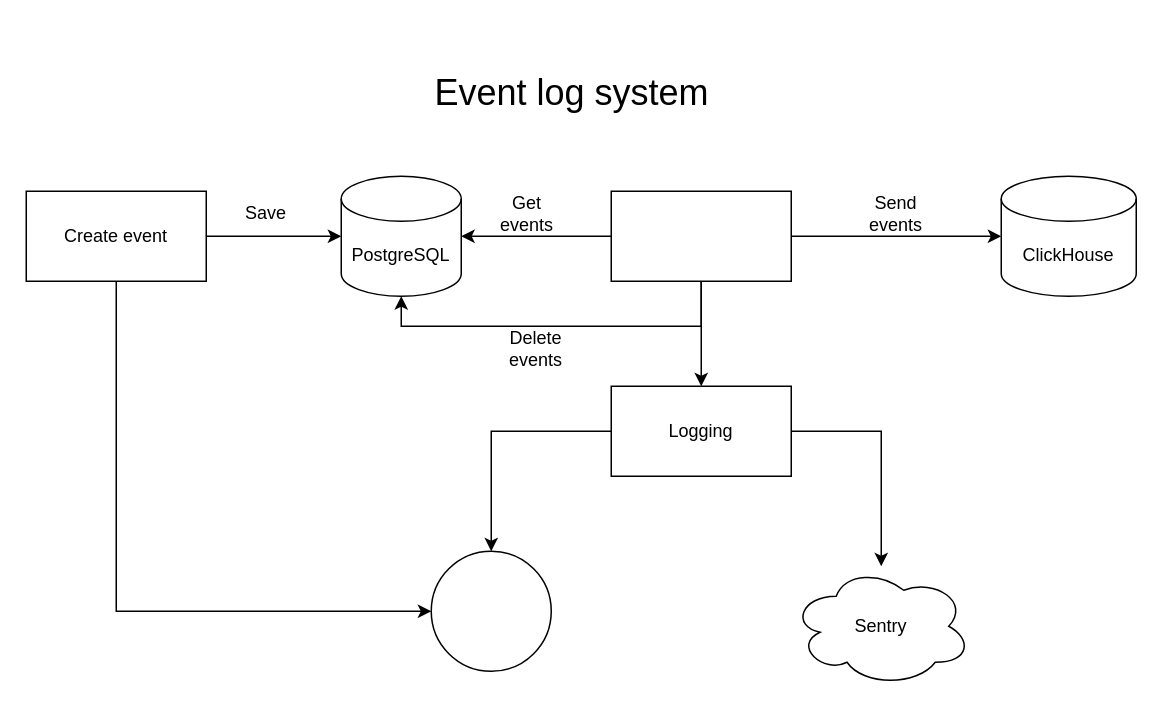
Image size: 1163x713. Some labels were removed from this diagram. The centre of each missing label's shape, as x and y in pixels:
"Celery beat" goes at (x=700, y=235).
"structlog" goes at (x=490, y=610).
